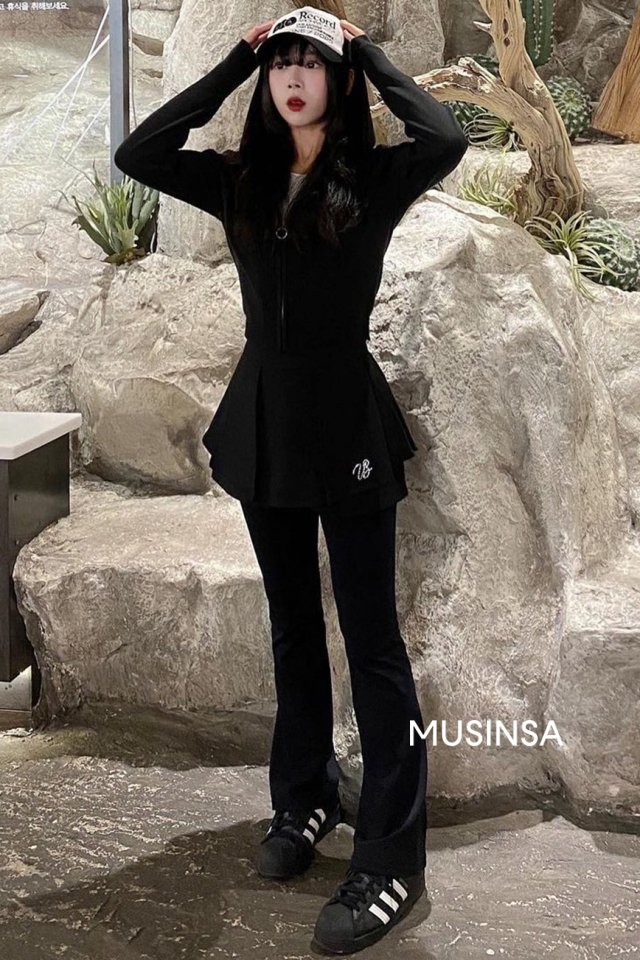Cap: (252, 3, 346, 60)
Outer: (128, 115, 476, 352)
Pants: (238, 479, 432, 882)
Shoes: (250, 794, 426, 955)
Skirt: (196, 349, 416, 505)
